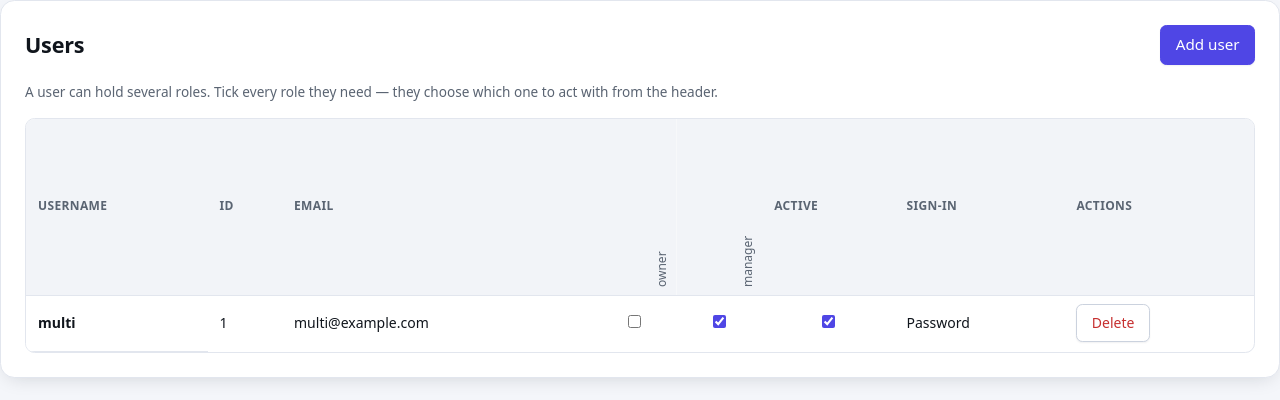
Scenario: UsersPage のロール列 › 更新中の行は操作を受け付けない（古い値から差分を作らない）
Expected: the text "multi@example.com" is shown, [282, 295, 591, 351]
Click the checkbox named "multi: owner" at (634, 322), box [628, 316, 641, 328]
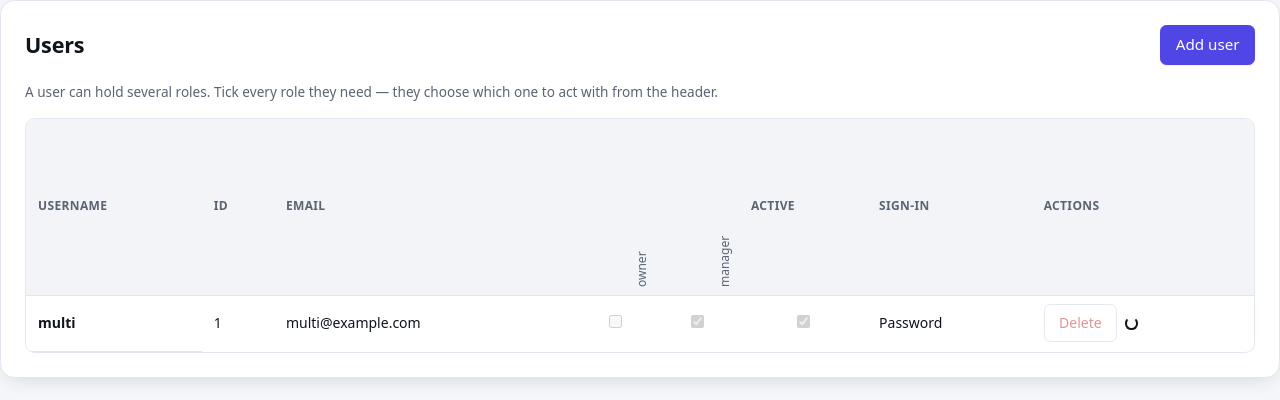
Now the checkbox named "multi: manager" is disabled
Click the checkbox named "multi: manager" at (698, 322), box [692, 316, 704, 328]
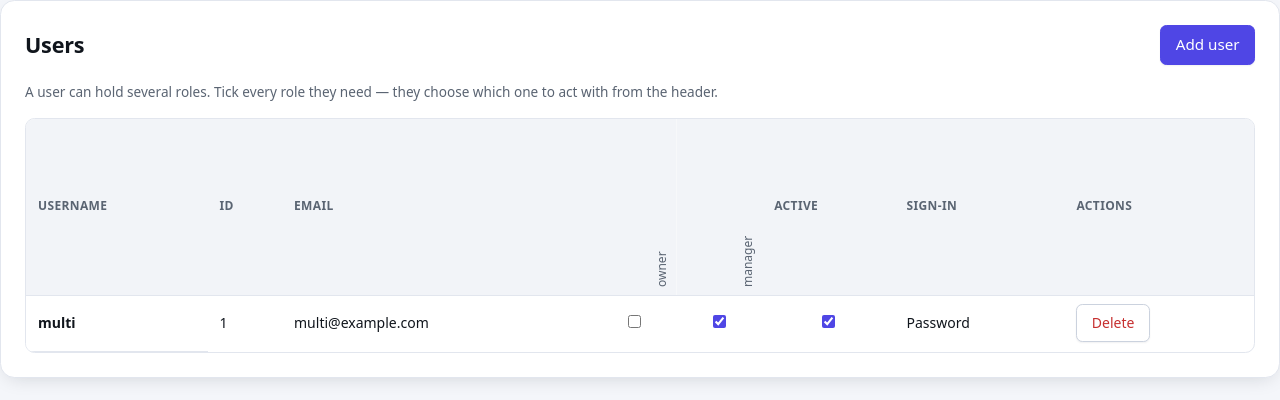
Now the checkbox named "multi: manager" is enabled, box [713, 316, 726, 328]
